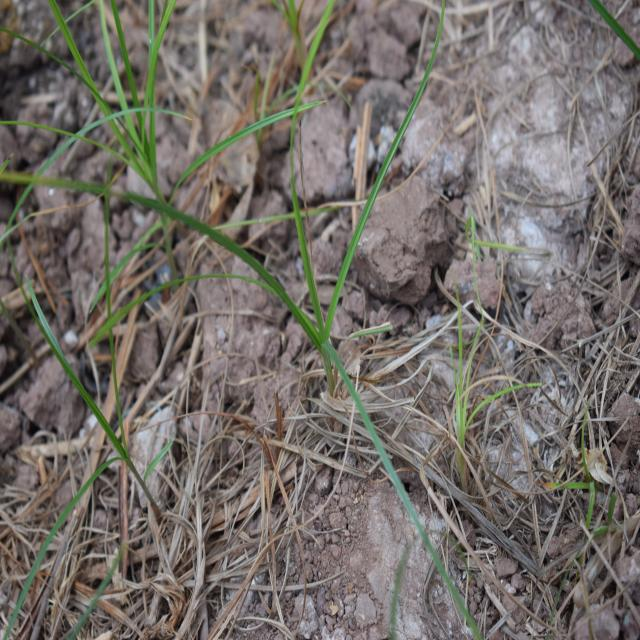sedge: (84, 144, 456, 509)
